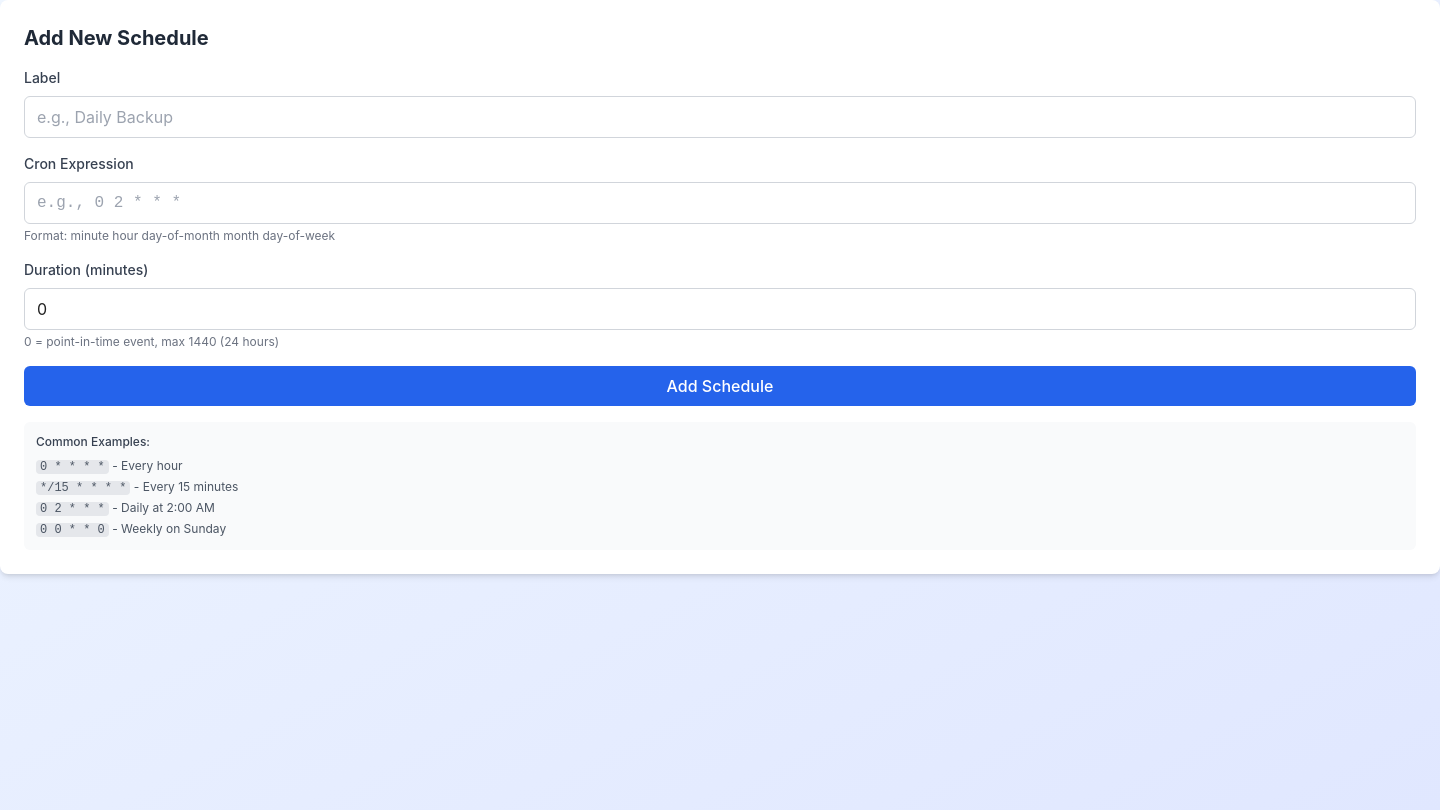
Test case: ScheduleInput › Form Validation › should show error for invalid cron expression
Type "Test Schedule" into the field labelled "Label". click: point(720, 117)
box: left=24, top=96, right=1416, bottom=138
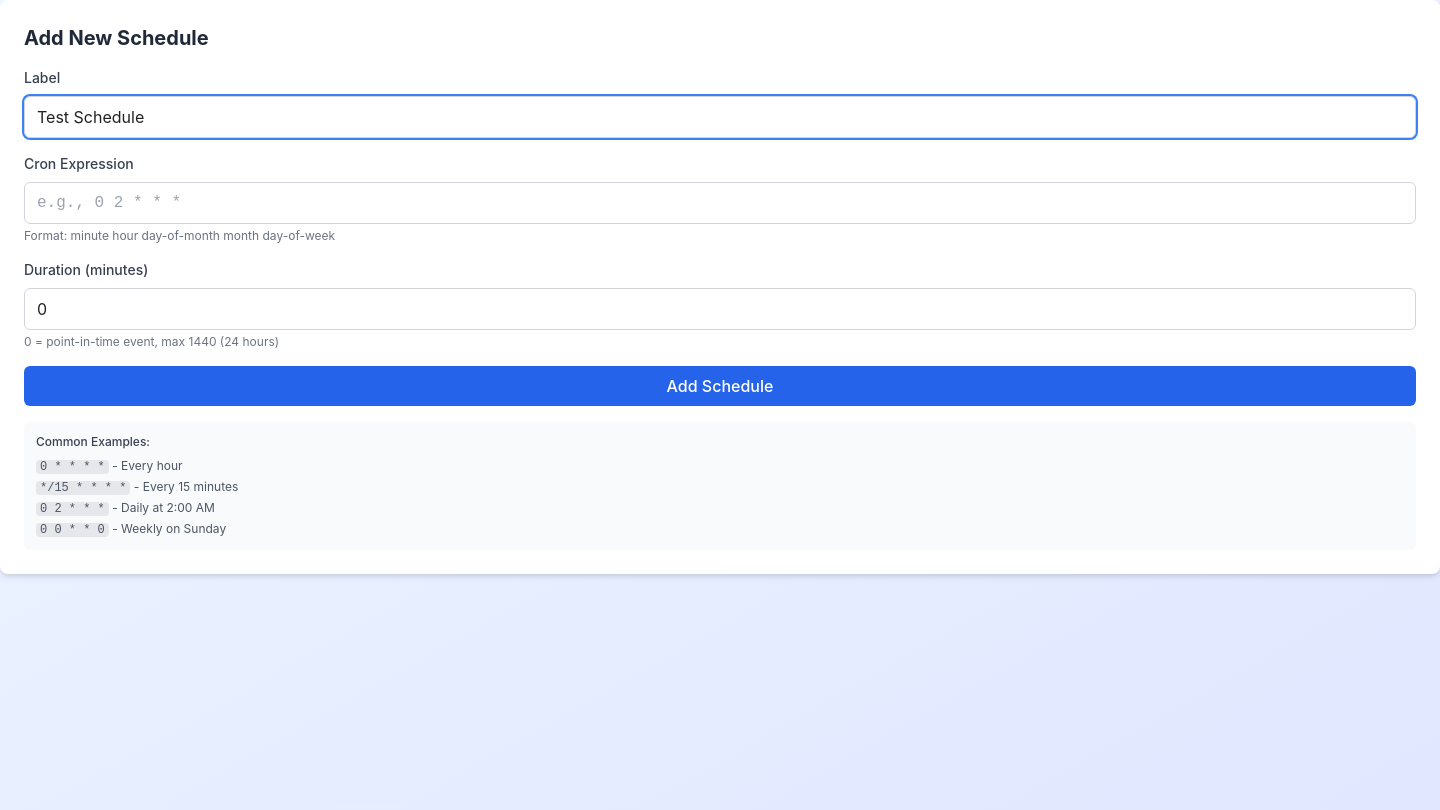
Type "invalid cron" into the field labelled "Cron Expression". click: point(720, 203)
box: left=24, top=182, right=1416, bottom=224
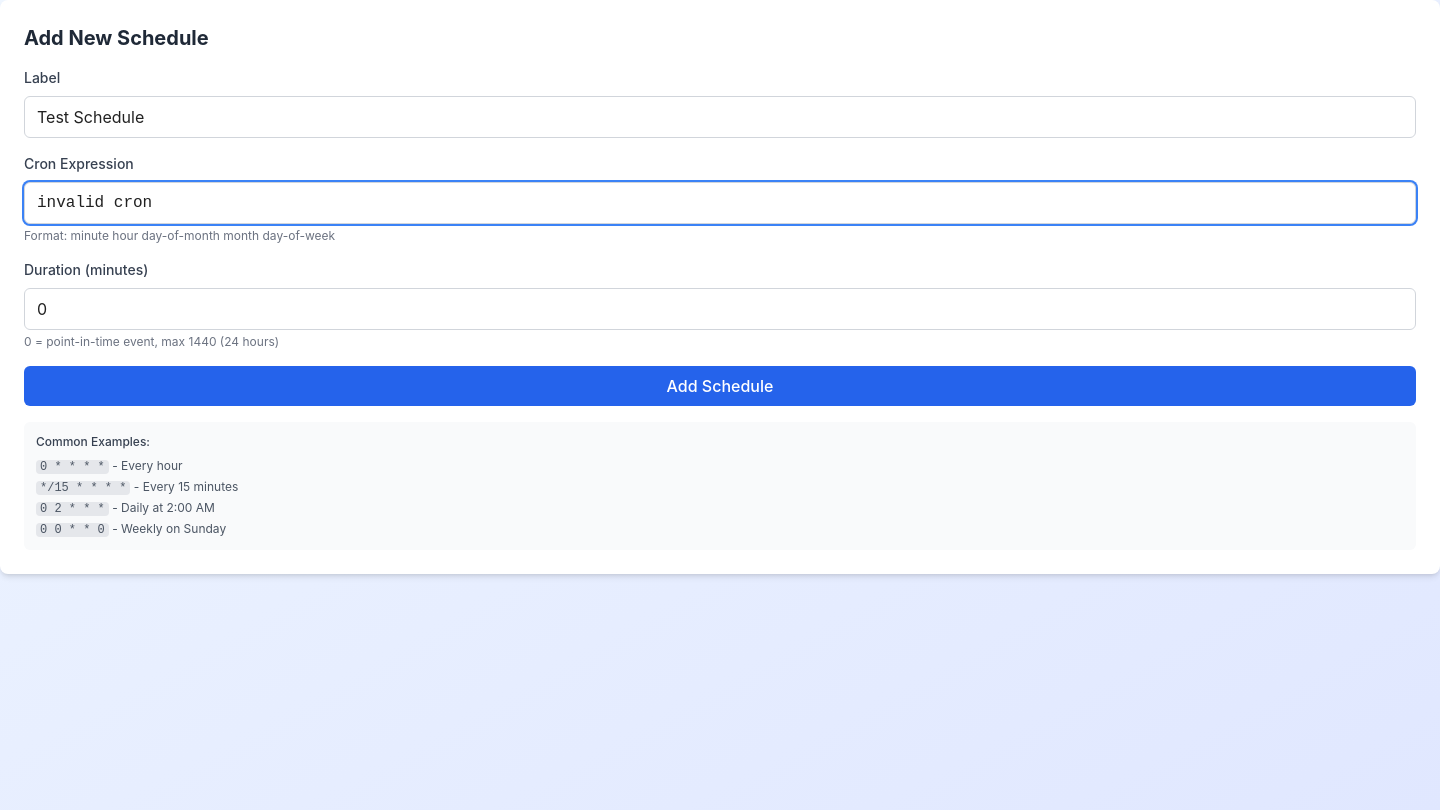
Click the button "Add Schedule". click: point(720, 386)
box: left=24, top=366, right=1416, bottom=406
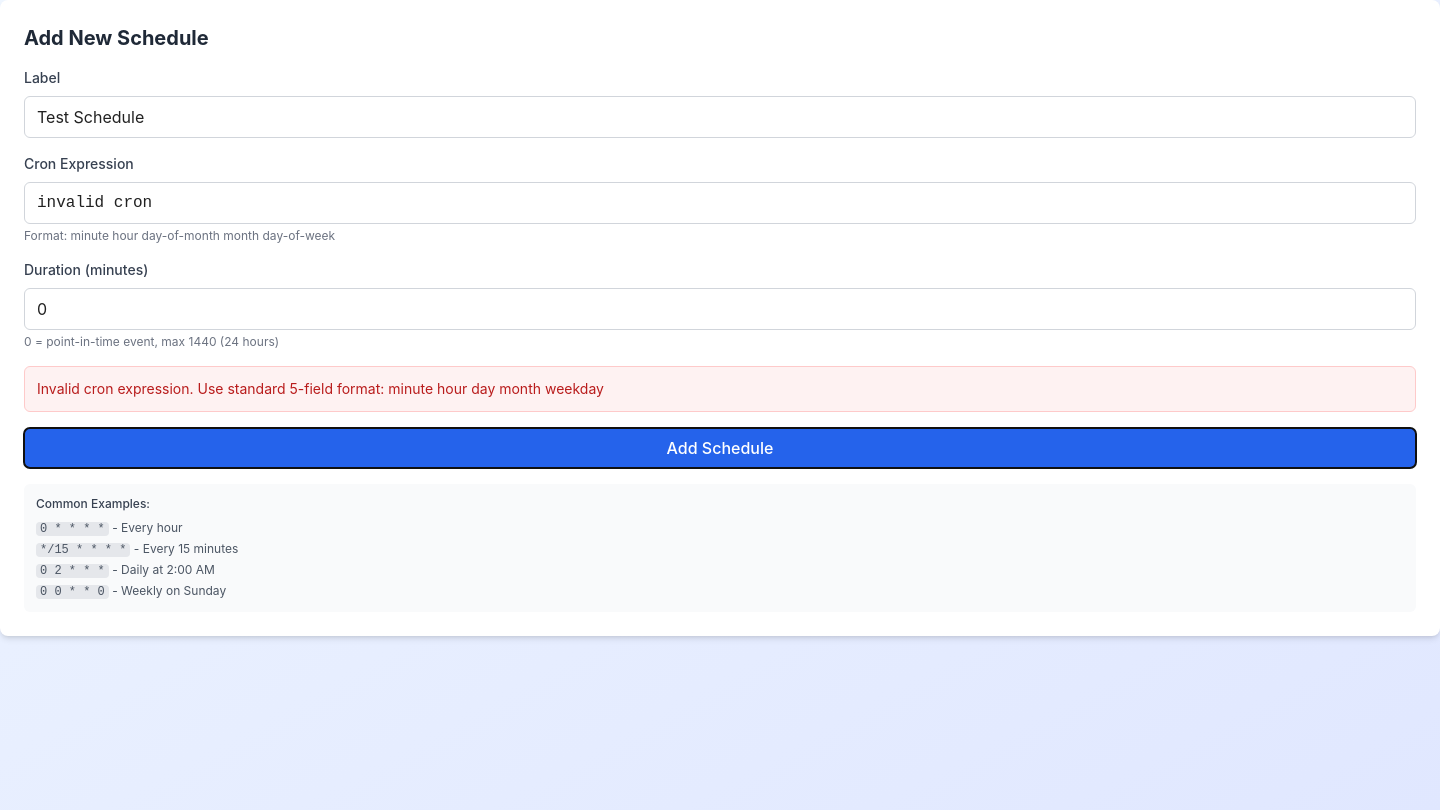
Result: the text "Invalid cron expression" is shown at left=37, top=380, right=604, bottom=397
